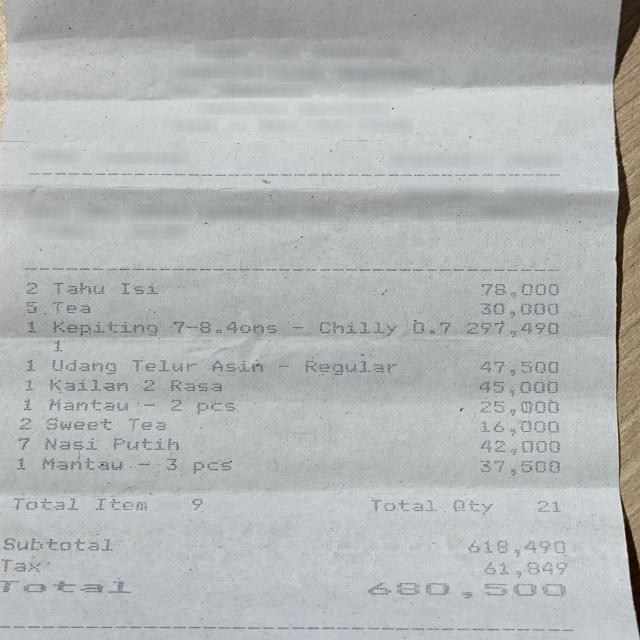text: (364, 581, 566, 597), (0, 578, 131, 593), (467, 538, 567, 557), (60, 320, 158, 336), (304, 358, 396, 375), (457, 321, 558, 336), (483, 561, 567, 578), (3, 538, 112, 551), (170, 321, 277, 334), (478, 379, 557, 396), (479, 459, 562, 475), (481, 438, 559, 455), (480, 282, 561, 298), (478, 400, 559, 416), (479, 420, 559, 436), (48, 398, 128, 412), (318, 322, 396, 336), (480, 362, 558, 376), (40, 457, 124, 470), (480, 303, 557, 317), (55, 378, 130, 392), (8, 498, 78, 512), (369, 498, 438, 512), (52, 359, 116, 374), (45, 417, 111, 430), (212, 359, 264, 375), (112, 438, 178, 450), (131, 360, 195, 371), (52, 282, 106, 295), (95, 497, 147, 510), (405, 320, 450, 335), (0, 559, 50, 572), (453, 498, 493, 514), (44, 438, 97, 450), (170, 380, 222, 392), (192, 459, 231, 474), (196, 400, 235, 414), (54, 300, 92, 314), (128, 417, 165, 430), (121, 282, 158, 294), (536, 500, 561, 512), (160, 458, 178, 473), (143, 379, 159, 391), (190, 497, 204, 510), (24, 301, 38, 313), (24, 321, 38, 333), (22, 379, 36, 391), (24, 359, 37, 371), (20, 398, 33, 410), (14, 456, 26, 469), (19, 418, 33, 429), (26, 282, 38, 294), (170, 399, 181, 411), (18, 438, 29, 449), (54, 340, 62, 351), (277, 364, 291, 369), (291, 324, 303, 329)
